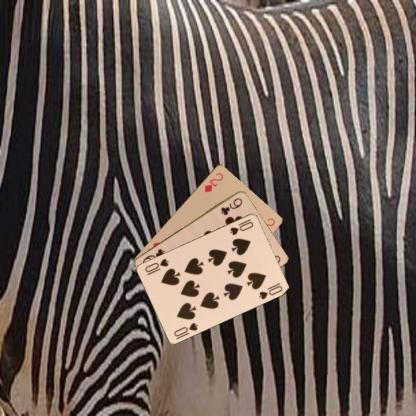10s: (227, 216, 255, 236), (171, 320, 199, 338)
2d: (201, 170, 224, 193)
9c: (218, 195, 244, 217)
